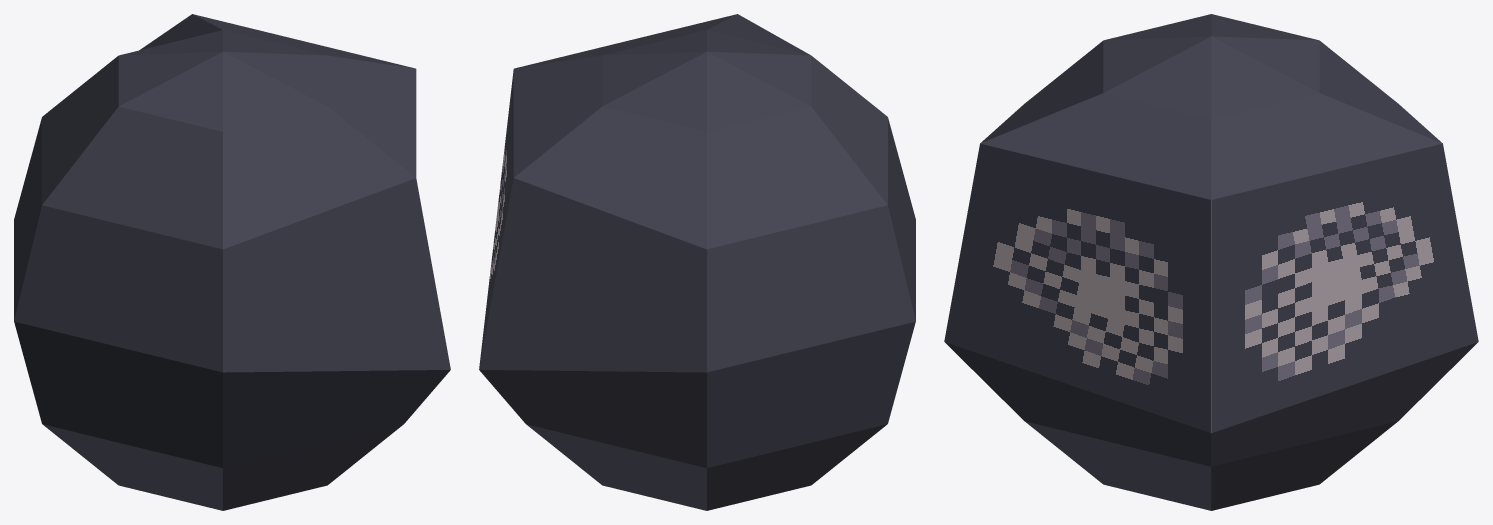
File: monster_head.gltf
The picture shows the model from 3 angles, left to right: view 1: azimuth 30°, elevation 25°; view 2: azimuth 150°, elevation 25°; view 3: azimuth 270°, elevation 25°; orthographic projection. The views are drawn at different scales.
Visible parts, largest first — view 1: monster_head; view 2: monster_head; view 3: monster_head.
Boxes of the visible parts, box(x1,y1,x2,y2) form: monster_head: box(14, 14, 450, 510); monster_head: box(479, 14, 915, 510); monster_head: box(944, 14, 1478, 510).
Size of the model in its own units: 0.3224 by 0.3352 by 0.3591.
Materials: 1 (1 with a texture image).
